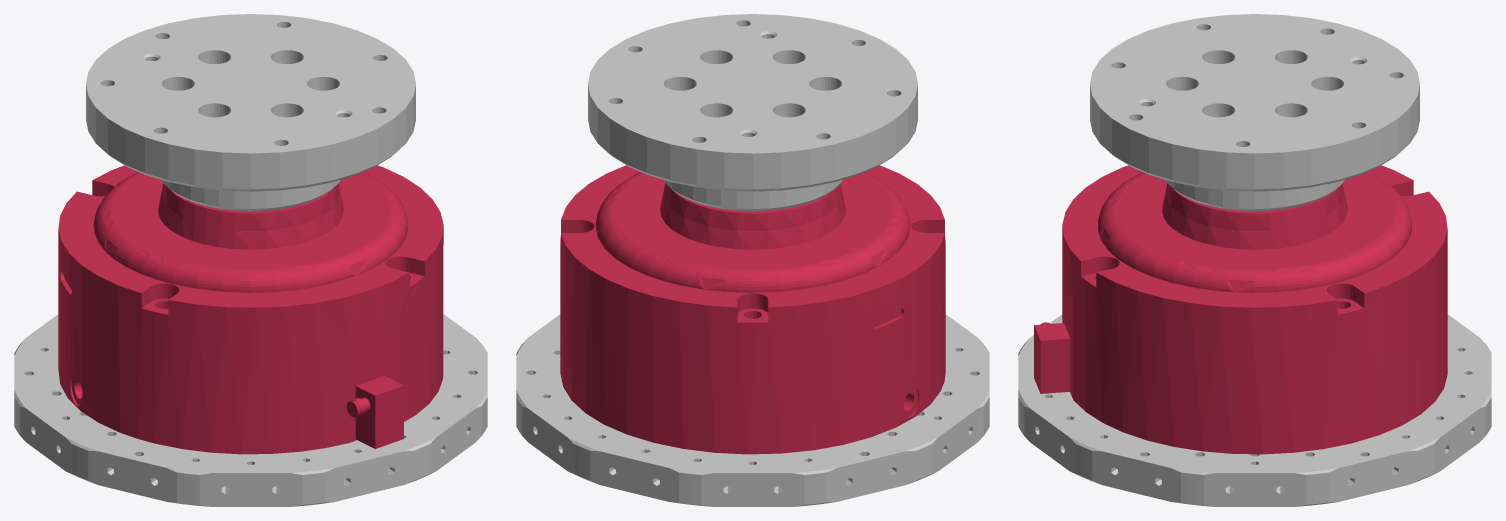
Rendered from tool_adapter_plate_col.dae.
3 renders of one model, left to right at view 1: azimuth 30°, elevation 25°; view 2: azimuth 150°, elevation 25°; view 3: azimuth 270°, elevation 25°, orthographic.
Parts seen in each view (by area): view 1: node1, node2, node0; view 2: node1, node2, node0; view 3: node1, node2, node0.
Boxes of the visible parts, bbox=[...] form: node1: bbox=[58, 165, 443, 454]; node2: bbox=[86, 14, 415, 211]; node0: bbox=[14, 314, 487, 506]; node1: bbox=[560, 165, 945, 454]; node2: bbox=[588, 14, 917, 211]; node0: bbox=[516, 314, 989, 506]; node1: bbox=[1034, 165, 1447, 454]; node2: bbox=[1090, 14, 1419, 211]; node0: bbox=[1018, 314, 1491, 506].
Bounding box in the file's own units: 0.215 × 0.215 × 0.18.
